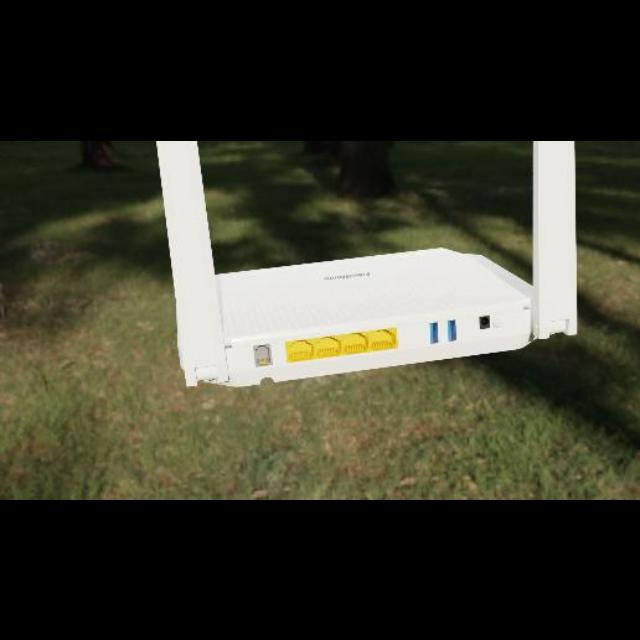Router: (148, 140, 588, 394)
